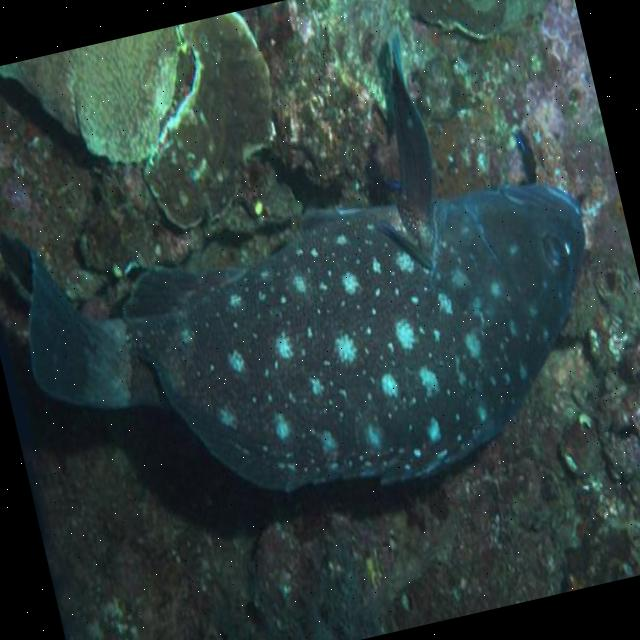ikan: (0, 9, 634, 564)
